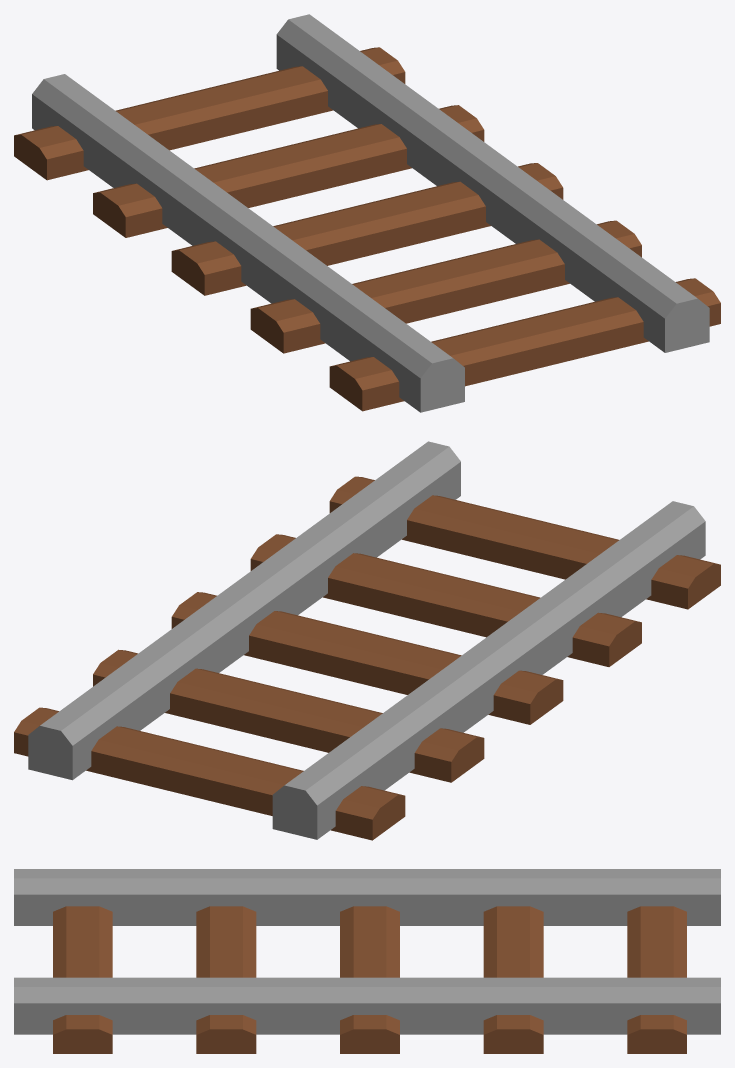
File: TRACK.fbx
3 renders of one model, top to bottom at view 1: azimuth 30°, elevation 25°; view 2: azimuth 150°, elevation 25°; view 3: azimuth 270°, elevation 25°, orthographic. The views are drawn at different scales.
Parts seen in each view (by area): view 1: Cube.002, Cube.001; view 2: Cube.002, Cube.001; view 3: Cube.001, Cube.002.
Part boxes in pixels (box(x1,y1,x2,y2)): Cube.002: box(14, 47, 720, 411); Cube.001: box(32, 14, 709, 412); Cube.002: box(14, 476, 720, 840); Cube.001: box(28, 441, 705, 839); Cube.001: box(14, 869, 720, 1034); Cube.002: box(53, 906, 686, 1053).
Size of the model in its own units: 516 by 71.39 by 969.
